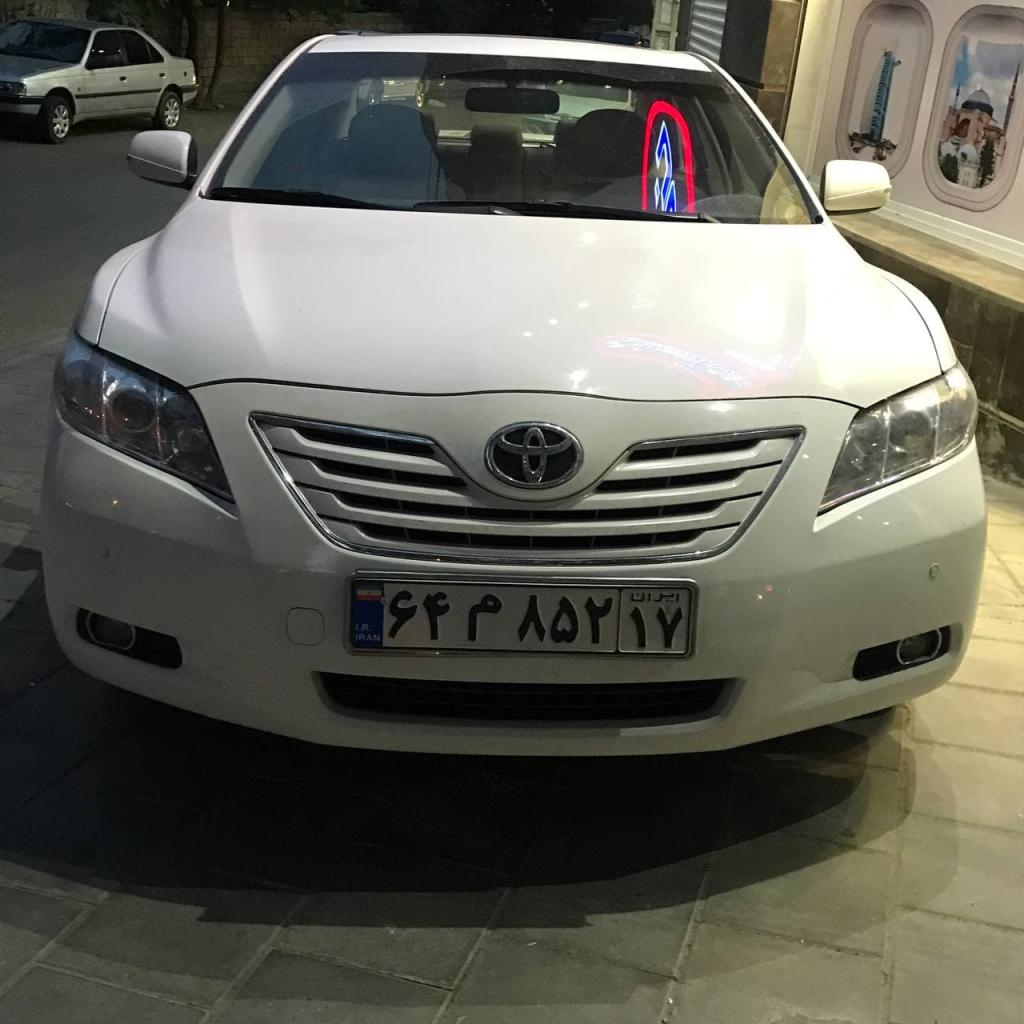Plates: (350, 577, 696, 657)
